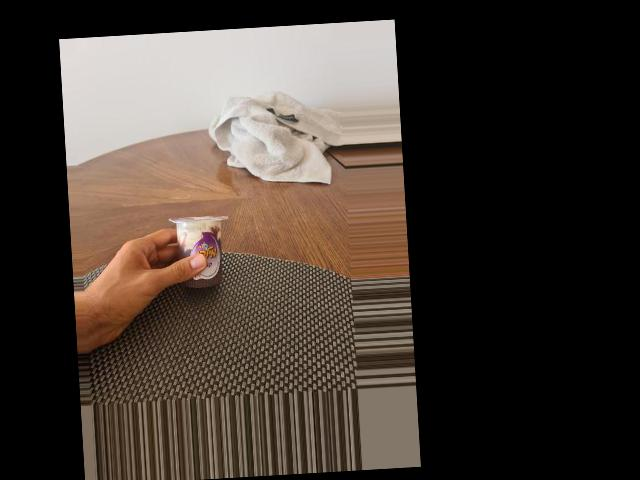milky: (167, 214, 231, 293)
